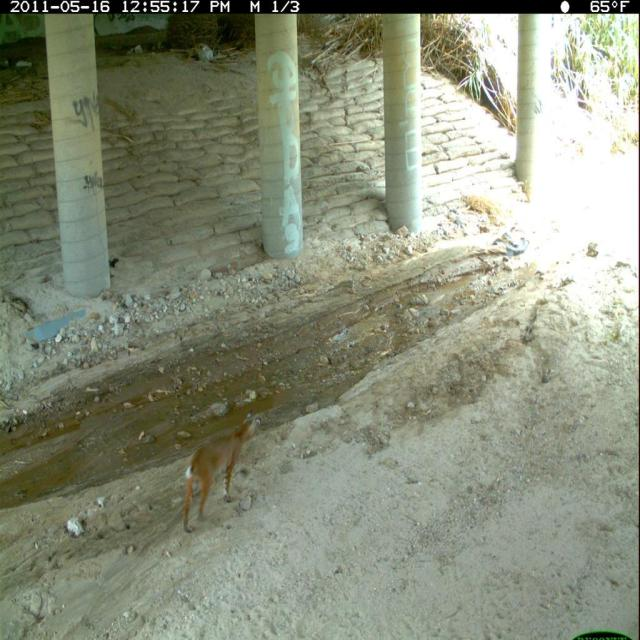bobcat: (180, 408, 264, 537)
